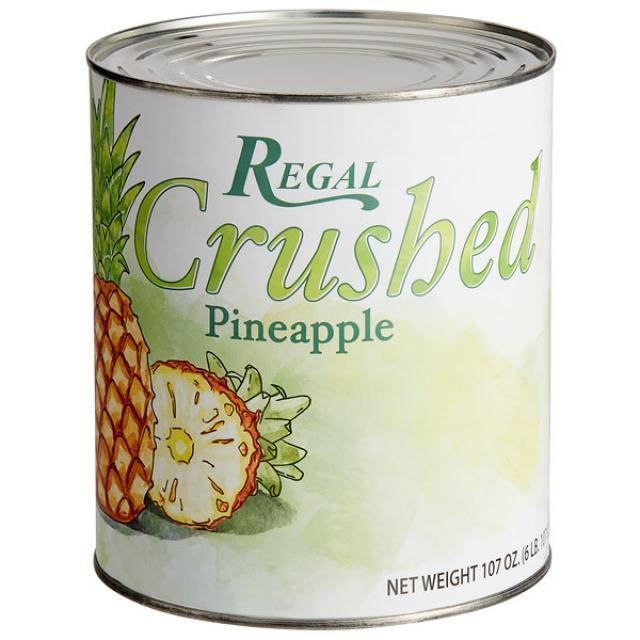metal-can: (89, 3, 555, 628)
